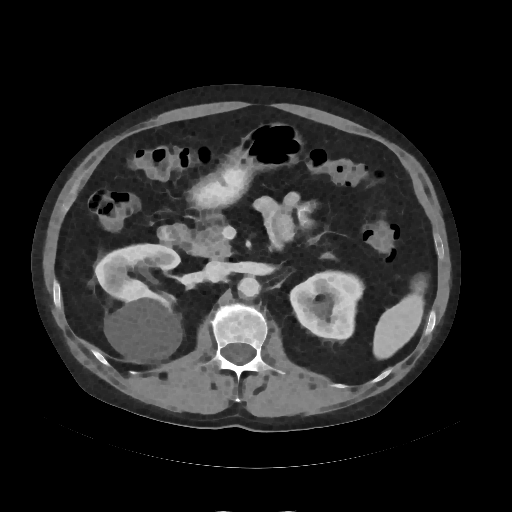Lesion: (104, 290, 185, 369)
